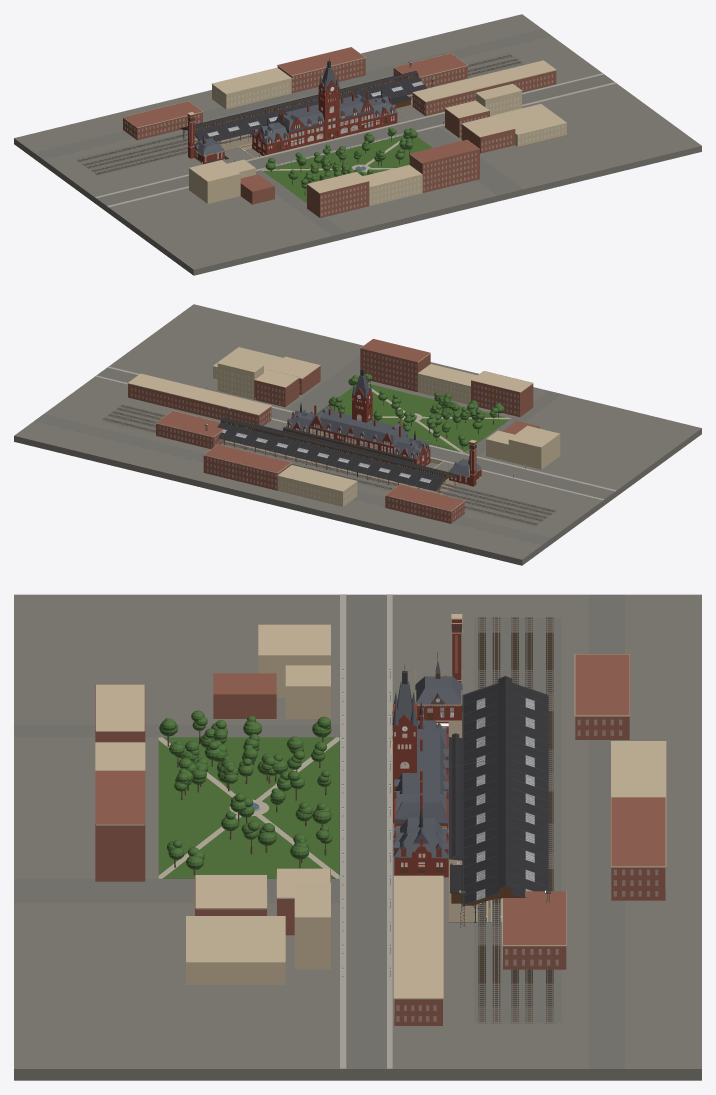
File: Everett_Street_1886_full_size.glb
3 views of the same model, one above another, from view 1: azimuth 30°, elevation 25°; view 2: azimuth 150°, elevation 25°; view 3: azimuth 270°, elevation 25° (orthographic). The views are drawn at different scales.
Visible parts, largest first — view 1: ground, brick2, paving, cream, stone, brick, ballast, glass, shedroof, roof, grass, tree (+6 smaller); view 2: ground, brick2, paving, cream, stone, shedroof, ballast, grass, glass, roof, brick, tree (+6 smaller); view 3: ground, paving, brick2, shedroof, stone, cream, grass, ballast, tree, tie, roof, sidewalk (+7 smaller).
Boxes of the visible parts, x1,y1,x2,y2 form: ground: (14, 14, 701, 275); brick2: (123, 47, 556, 217); paving: (34, 29, 614, 235); cream: (189, 67, 566, 205); stone: (122, 47, 566, 193); brick: (187, 79, 397, 163); ballast: (75, 53, 524, 175); glass: (125, 60, 563, 215); shedroof: (182, 71, 426, 141); roof: (194, 67, 397, 155); grass: (263, 135, 432, 202); tree: (265, 127, 417, 188); ground: (14, 304, 701, 565); brick2: (128, 339, 539, 523); paving: (34, 356, 614, 544); cream: (213, 347, 560, 506); stone: (127, 339, 559, 511); shedroof: (217, 417, 455, 491); ballast: (100, 404, 556, 526); grass: (316, 383, 509, 451); glass: (131, 352, 525, 521); roof: (285, 375, 481, 476); brick: (285, 387, 481, 486); tree: (328, 373, 504, 446); ground: (14, 594, 701, 1080); paving: (14, 594, 624, 1068); brick2: (95, 654, 665, 1025); shedroof: (449, 676, 548, 906); stone: (96, 614, 666, 999); cream: (95, 624, 665, 984); grass: (158, 737, 339, 878); ballast: (474, 617, 561, 1023); tree: (159, 710, 332, 869); tie: (478, 617, 553, 1021); roof: (392, 660, 462, 858); sidewalk: (340, 594, 392, 1068).
Size of the model in its own units: 378 by 60.66 by 232.
